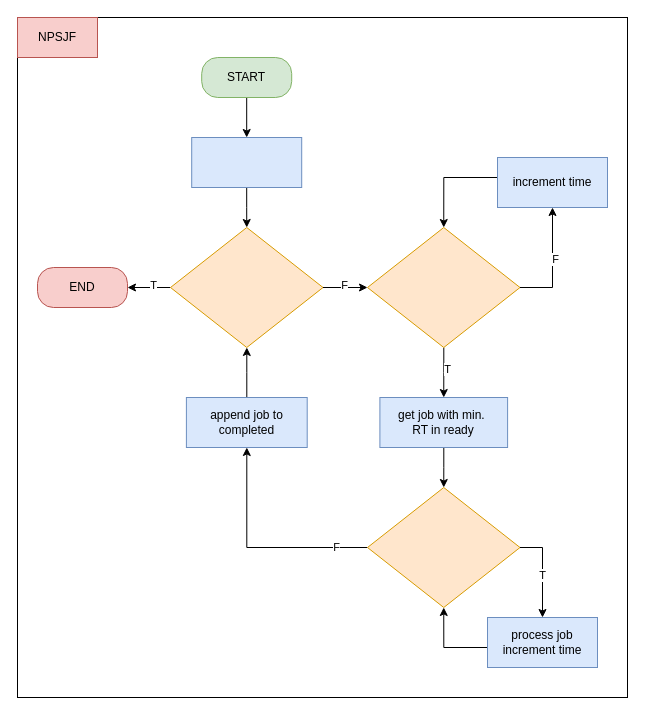
Image size: 645x715. Some labels were removed from this diagram. Here are the shapes that lost their labels. From the top down, the centre of each, then its label:
[246,162]: Sort Jobs by AT
[246,287]: no. of completed == no. of jobs?
[443,287]: any job/s ready?
[443,547]: job RT > 0?
